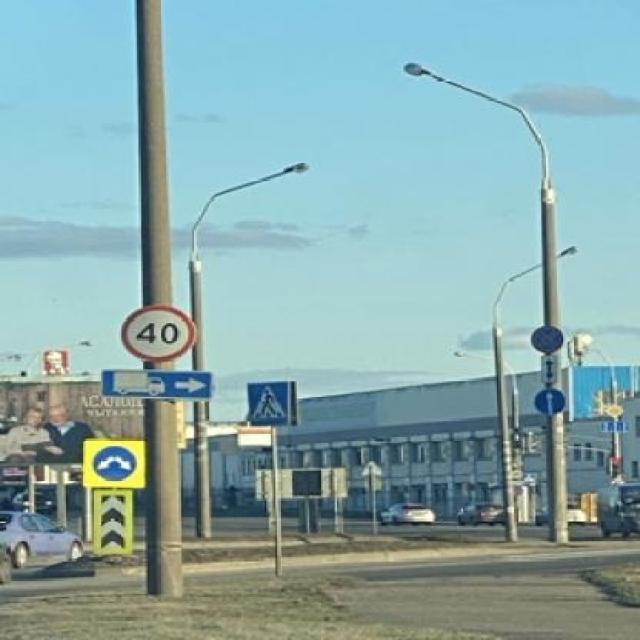forb_speed_over_40: (125, 307, 194, 359)
